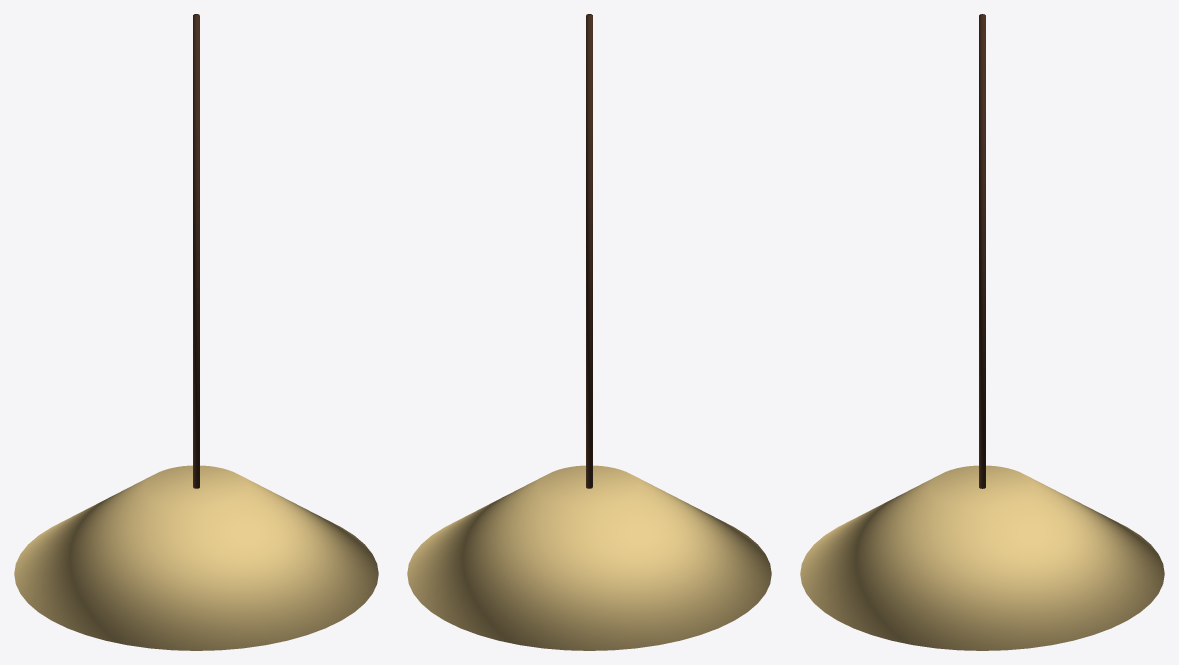
File: lamp.glb
3 views of the same model, side by side, from view 1: azimuth 30°, elevation 25°; view 2: azimuth 150°, elevation 25°; view 3: azimuth 270°, elevation 25° (orthographic).
Parts seen in each view (by area): view 1: LampShade, LampCable; view 2: LampShade, LampCable; view 3: LampShade, LampCable.
Part boxes in pixels (box(x1,y1,x2,y2)): LampShade: box(14, 465, 378, 650); LampCable: box(193, 14, 199, 488); LampShade: box(407, 465, 771, 650); LampCable: box(586, 14, 592, 488); LampShade: box(800, 465, 1164, 650); LampCable: box(979, 14, 985, 488).
Bounding box in the file's own units: 0.84 × 1.44 × 0.84.
